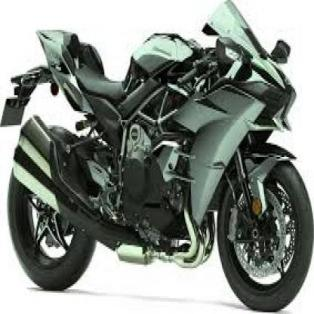Motocicleta: (0, 0, 313, 312)
